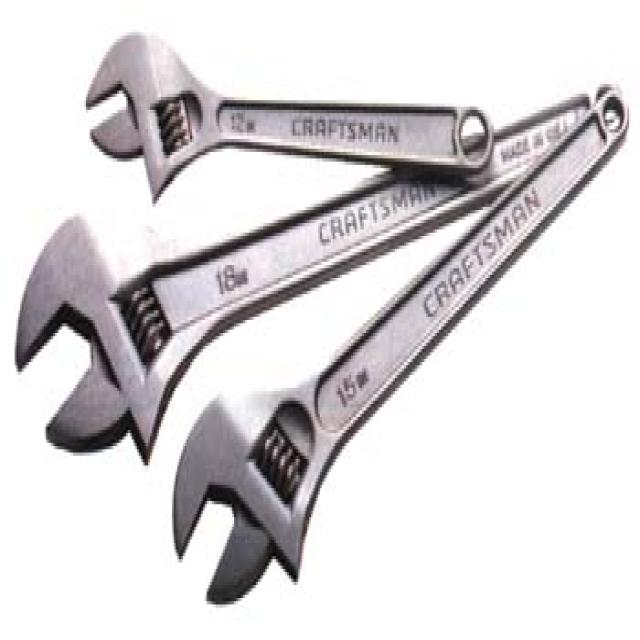wrench: (77, 12, 508, 203), (6, 199, 310, 461)
